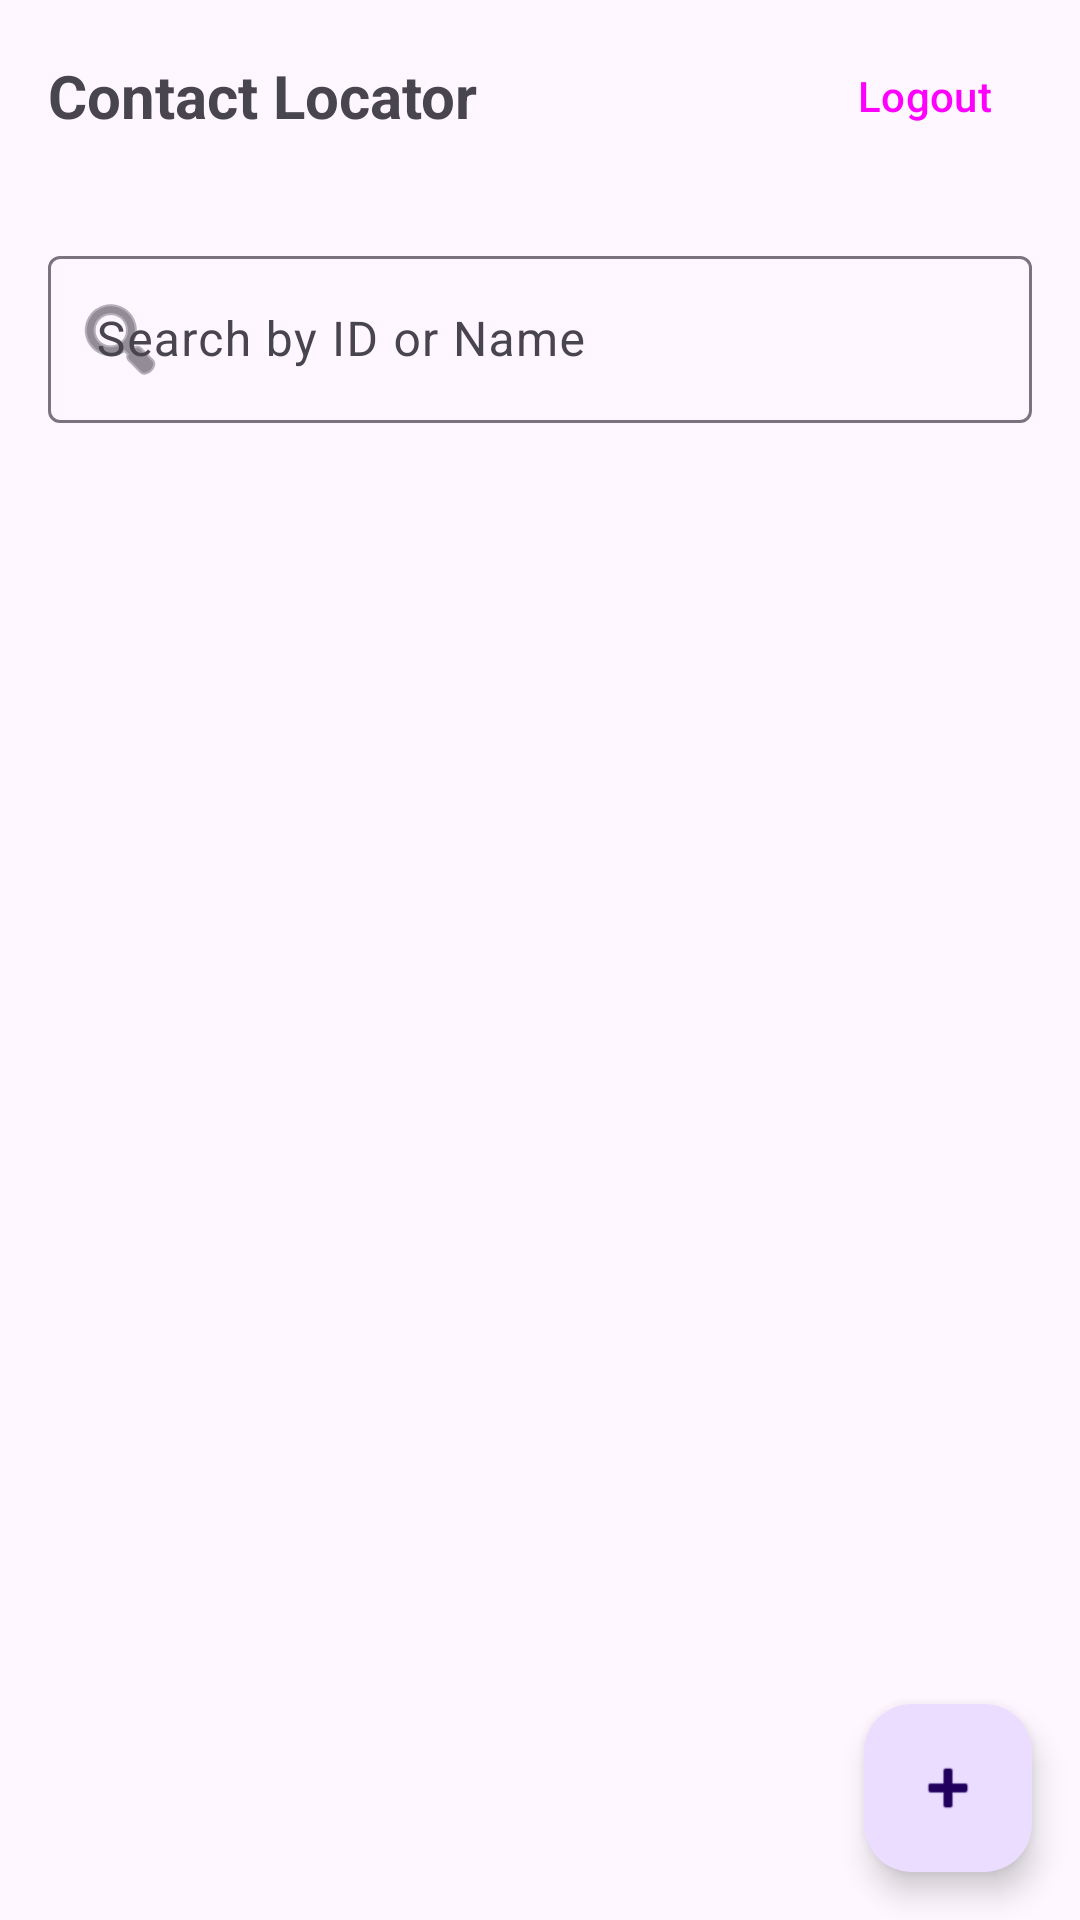

Locate icon controls on the screen. Image size 1080px×1920px, boxes as (x1, y1, x2, y2).
Add Contact: (864, 1704, 1032, 1872)
